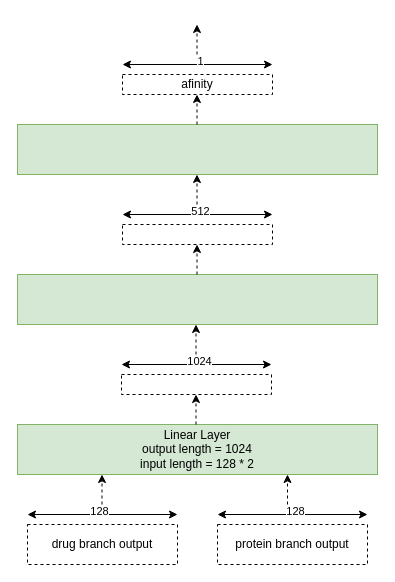
The diagram is 395 pixels wide and 582 high, and some of its shapes have lost their labels. Here are the shapes that lost their labels. From the top down, the centre of each, then its label:
(x=197, y=149): Linear Layer output length = 1 input length = 512
(x=197, y=299): Linear Layer output length = 512 input length = 1024
